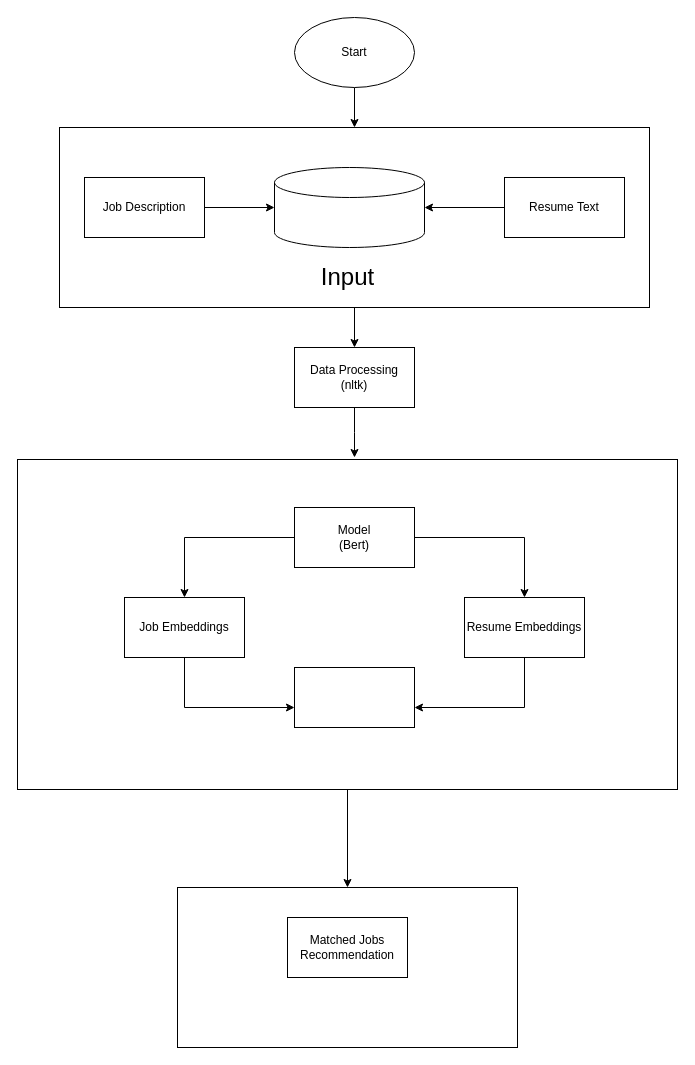
This 695x1065 diagram has some shape labels left out. Here are the shapes that lost their labels. From the top down, the box of each, then its label:
(274, 166, 424, 248): Data Collection
(16, 458, 678, 790): Backend
(294, 666, 414, 728): Cosine Similarity
(176, 886, 518, 1048): Frontend
